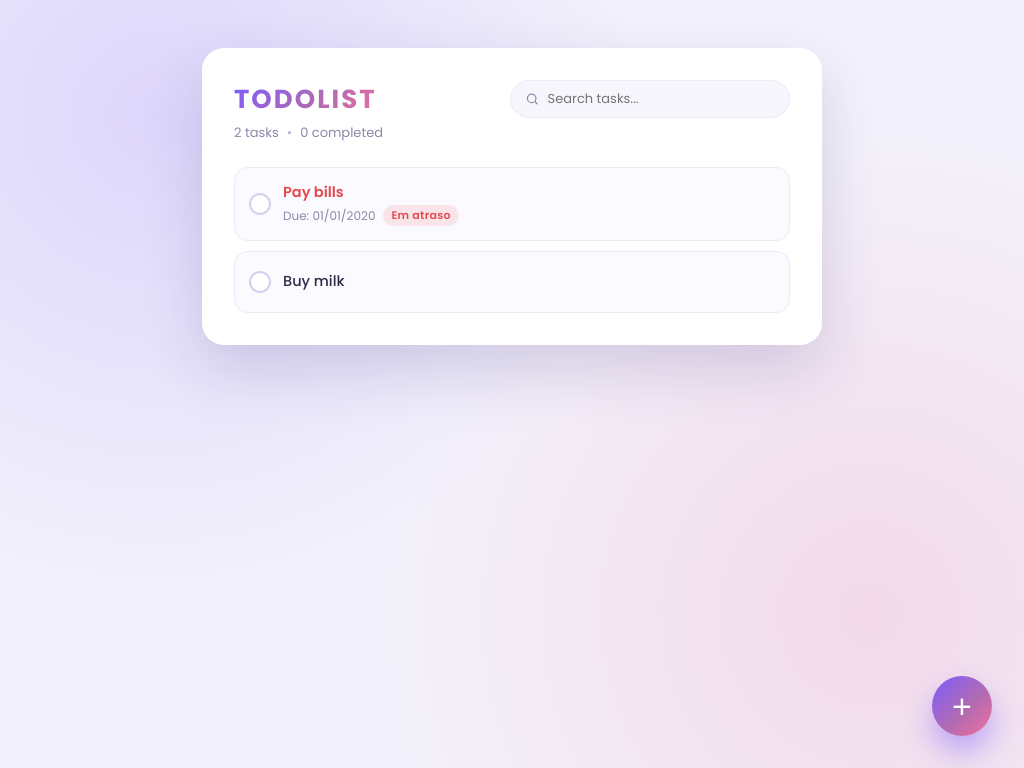
TODOLIST frontend › cria uma tarefa pelo modal com data limite opcional
Click the button named "Create task" at (962, 706), box [932,676,992,736]
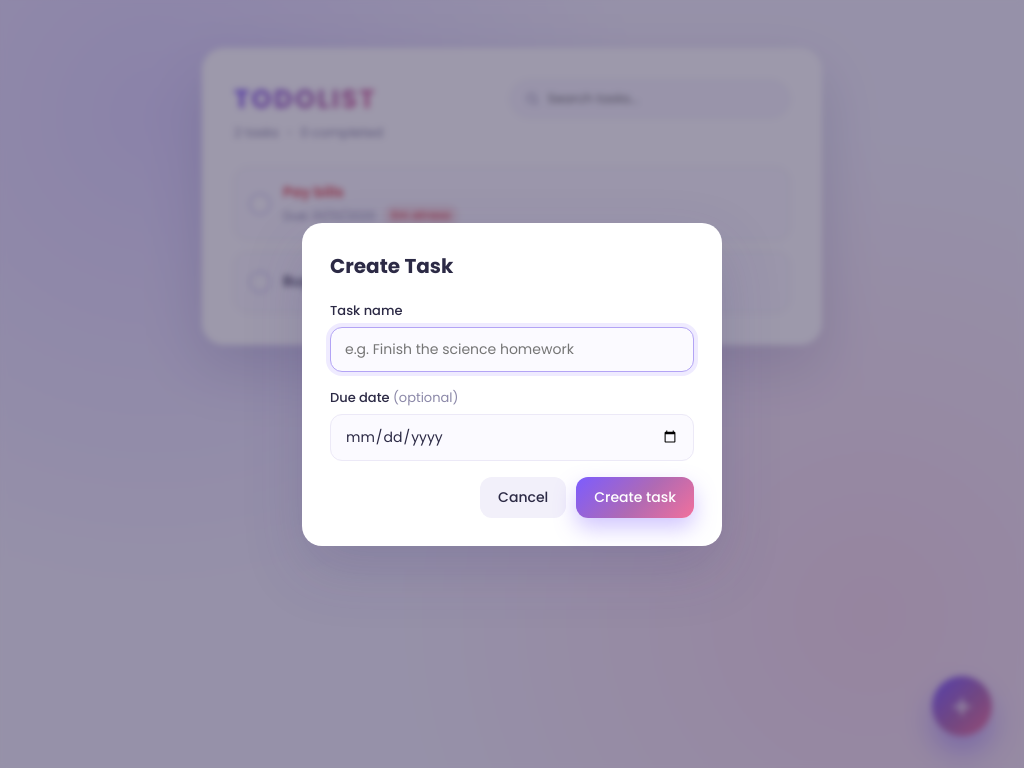
Type "Walk the dog" into the field with placeholder "e.g. Finish the science homework" at (512, 349), box [330,326,694,372]
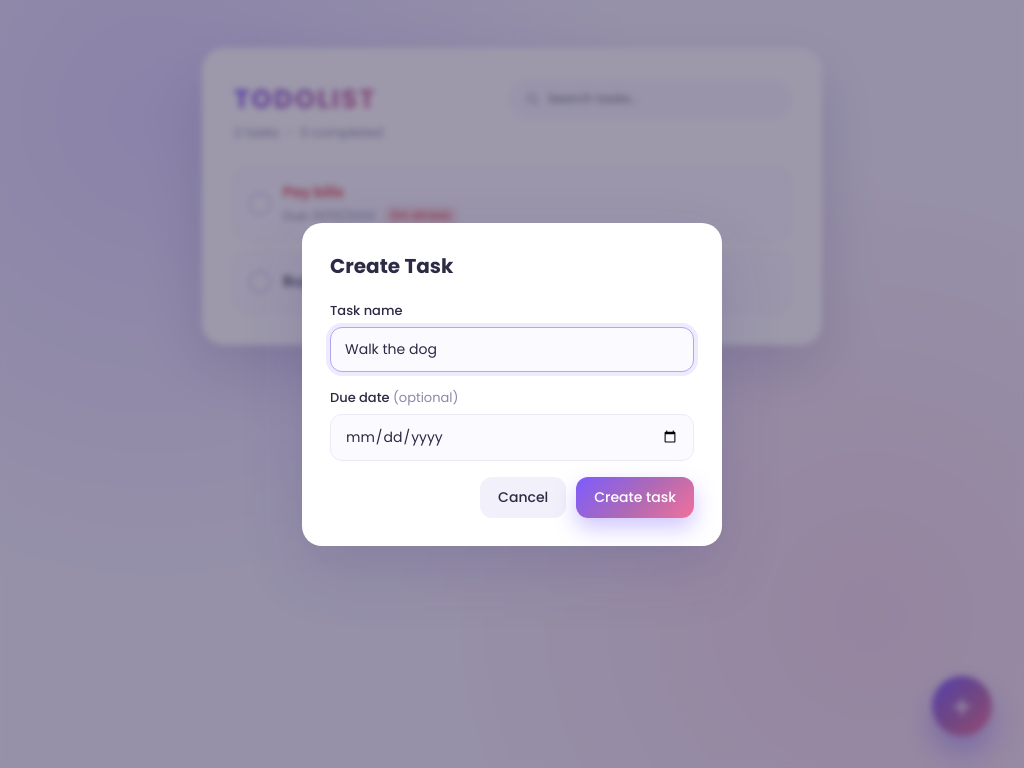
Click the button "Create task" at (635, 497), box [576,476,694,518]
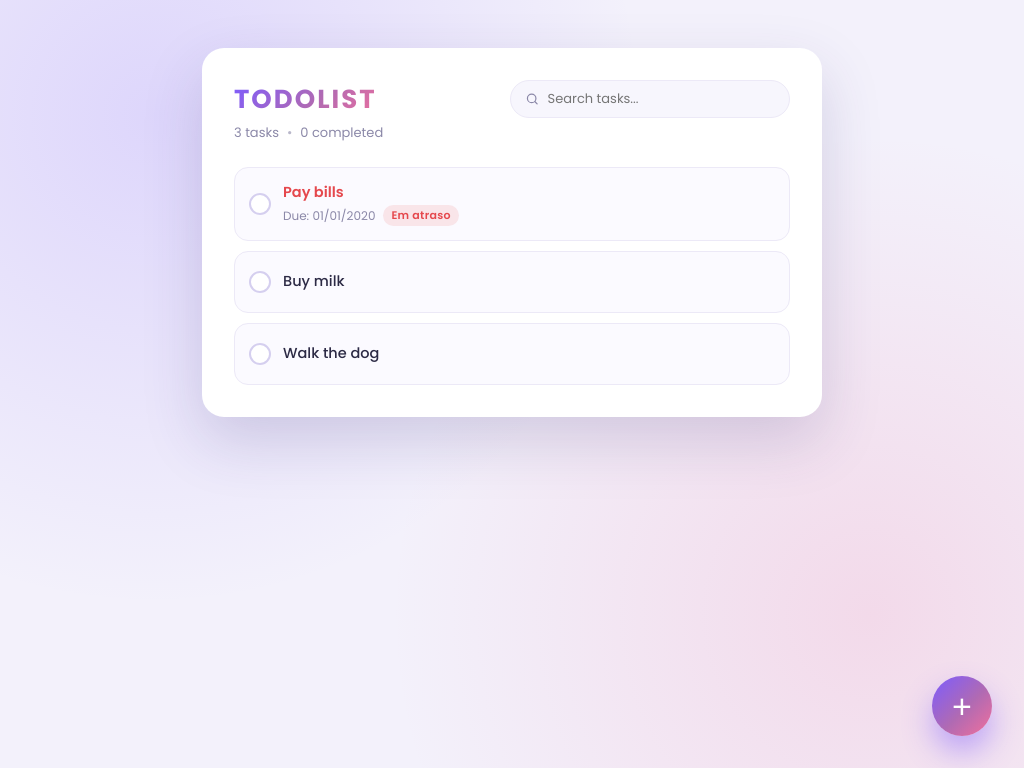
Expected: the text "Walk the dog" is shown, [283,342,379,364]
Expected: the text "3 tasks" is shown, [234,123,279,143]
Expected: the dialog is gone
